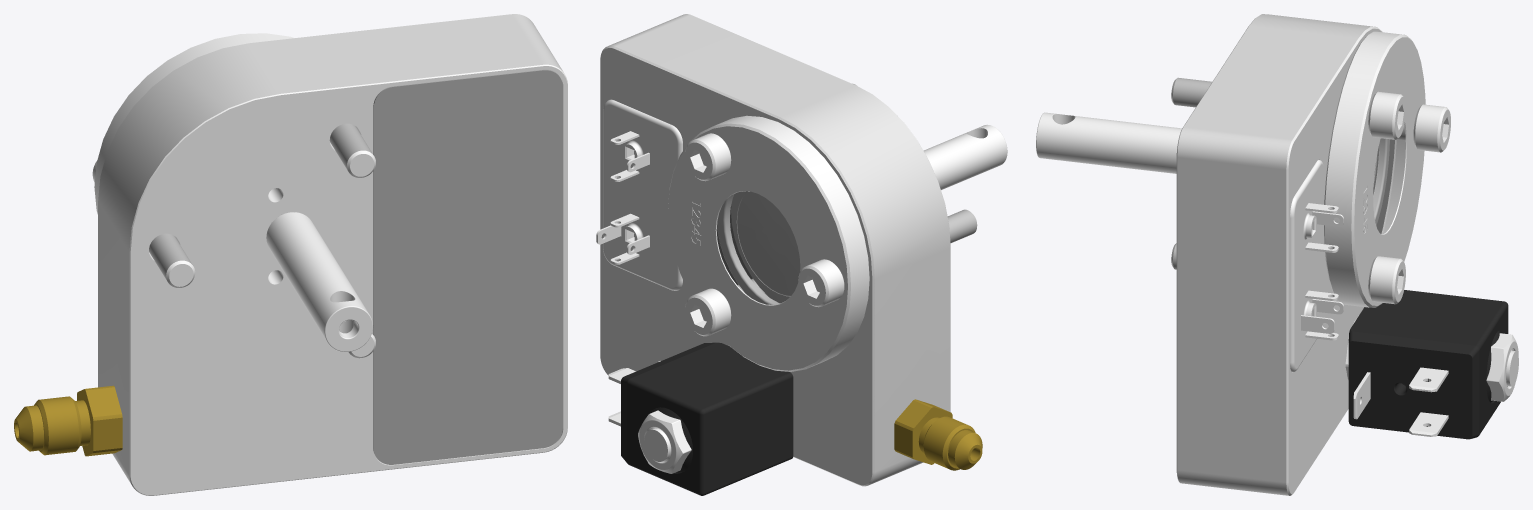
The model's file is BASE_UNIT-3D-Correct coil direction.glb.
The picture shows the model from 3 angles, left to right: view 1: azimuth 30°, elevation 25°; view 2: azimuth 150°, elevation 25°; view 3: azimuth 270°, elevation 25°; orthographic projection. The views are drawn at different scales.
Visible parts, largest first — view 1: BASE_UNIT-3D-Correct coil direction, BASE_UNIT-3D-Correct coil direction.004, BASE_UNIT-3D-Correct coil direction.001, BASE_UNIT-3D-Correct coil direction.003, BASE_UNIT-3D-Correct coil direction.005; view 2: BASE_UNIT-3D-Correct coil direction, BASE_UNIT-3D-Correct coil direction.004, BASE_UNIT-3D-Correct coil direction.002, BASE_UNIT-3D-Correct coil direction.003, BASE_UNIT-3D-Correct coil direction.001, BASE_UNIT-3D-Correct coil direction.005; view 3: BASE_UNIT-3D-Correct coil direction, BASE_UNIT-3D-Correct coil direction.004, BASE_UNIT-3D-Correct coil direction.001, BASE_UNIT-3D-Correct coil direction.002, BASE_UNIT-3D-Correct coil direction.005.
Part boxes in pixels (x1,y1,x2,y2): BASE_UNIT-3D-Correct coil direction: [92, 33, 567, 495]; BASE_UNIT-3D-Correct coil direction.004: [98, 14, 563, 484]; BASE_UNIT-3D-Correct coil direction.001: [266, 212, 373, 351]; BASE_UNIT-3D-Correct coil direction.003: [14, 385, 122, 456]; BASE_UNIT-3D-Correct coil direction.005: [149, 123, 375, 358]; BASE_UNIT-3D-Correct coil direction: [596, 45, 948, 495]; BASE_UNIT-3D-Correct coil direction.004: [609, 14, 950, 484]; BASE_UNIT-3D-Correct coil direction.002: [717, 191, 799, 304]; BASE_UNIT-3D-Correct coil direction.003: [894, 399, 982, 470]; BASE_UNIT-3D-Correct coil direction.001: [923, 124, 1007, 189]; BASE_UNIT-3D-Correct coil direction.005: [852, 83, 977, 242]; BASE_UNIT-3D-Correct coil direction: [1176, 19, 1518, 495]; BASE_UNIT-3D-Correct coil direction.004: [1177, 14, 1394, 495]; BASE_UNIT-3D-Correct coil direction.001: [1036, 112, 1181, 173]; BASE_UNIT-3D-Correct coil direction.002: [1373, 126, 1405, 233]; BASE_UNIT-3D-Correct coil direction.005: [1171, 77, 1212, 269].
Bounding box in the file's own units: 0.6006 × 0.4638 × 0.5732.
